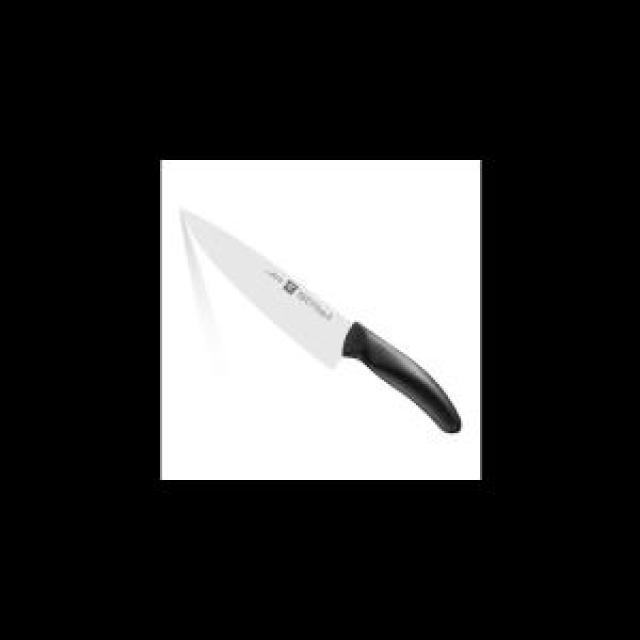knife: (175, 207, 467, 437)
